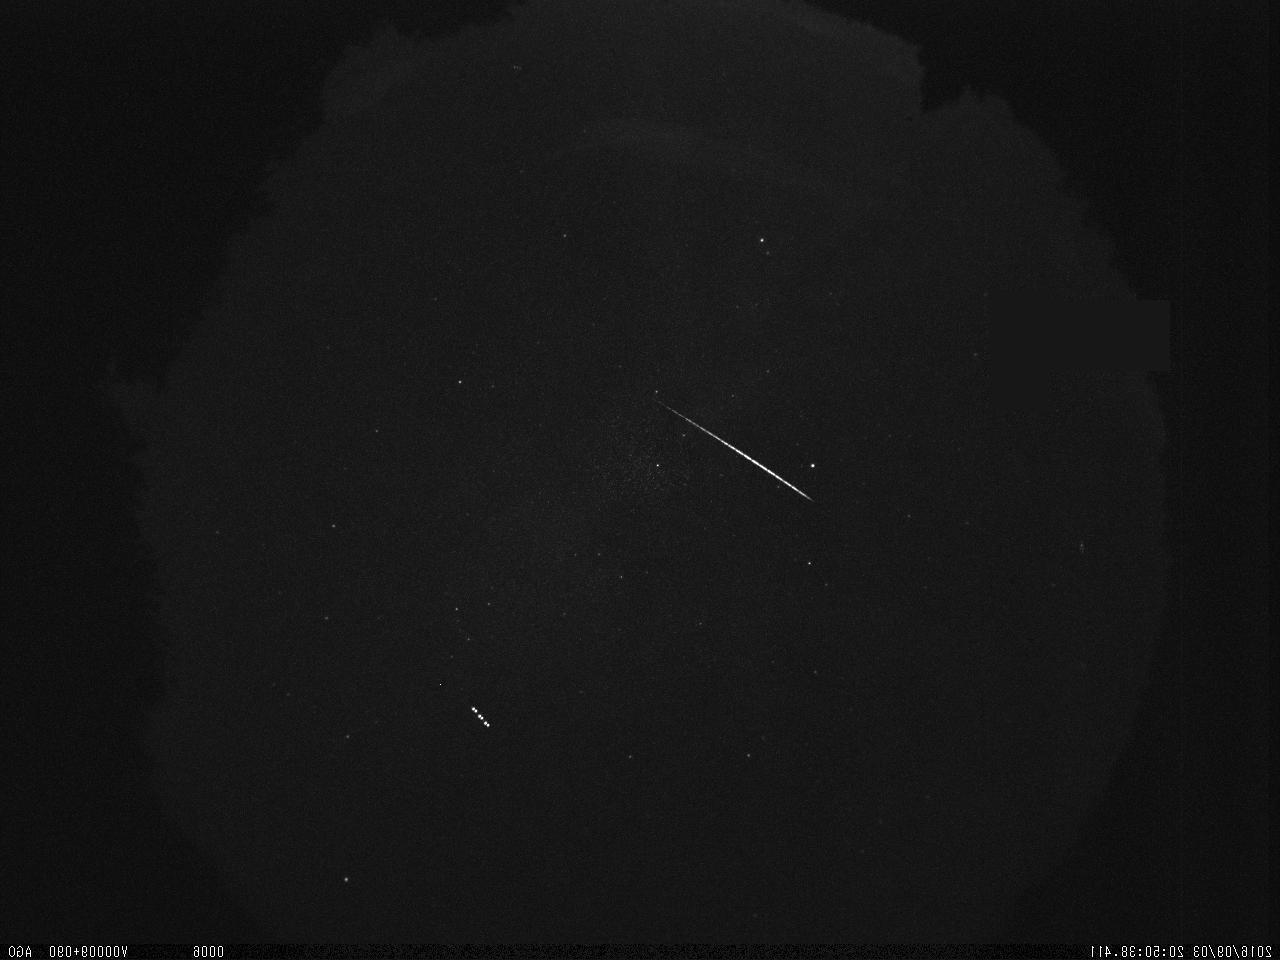meteor: (640, 391, 821, 521)
satelite: (465, 701, 495, 735)
